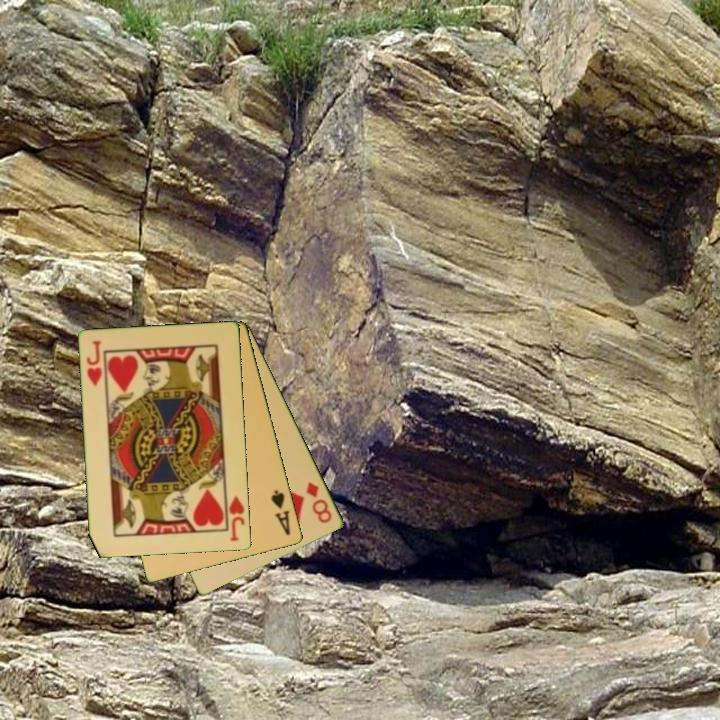8d: (303, 478, 335, 526)
As: (268, 486, 293, 538)
Jh: (226, 493, 248, 544), (84, 337, 105, 389)
